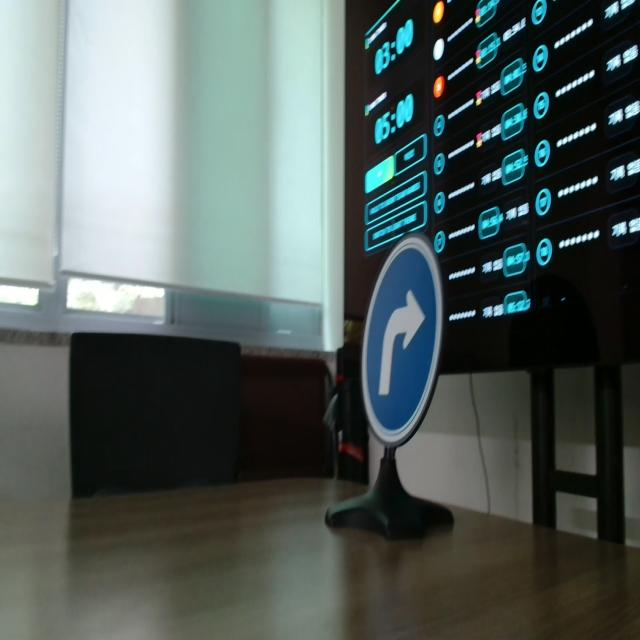right_dierection: (336, 224, 470, 501)
